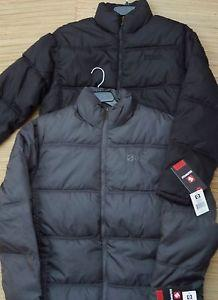C_jacket: (2, 84, 216, 300), (1, 1, 218, 213)
